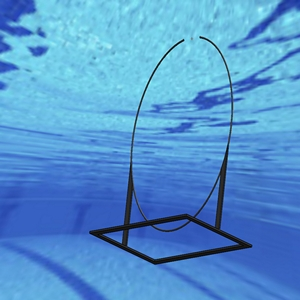circle: (87, 34, 255, 264)
